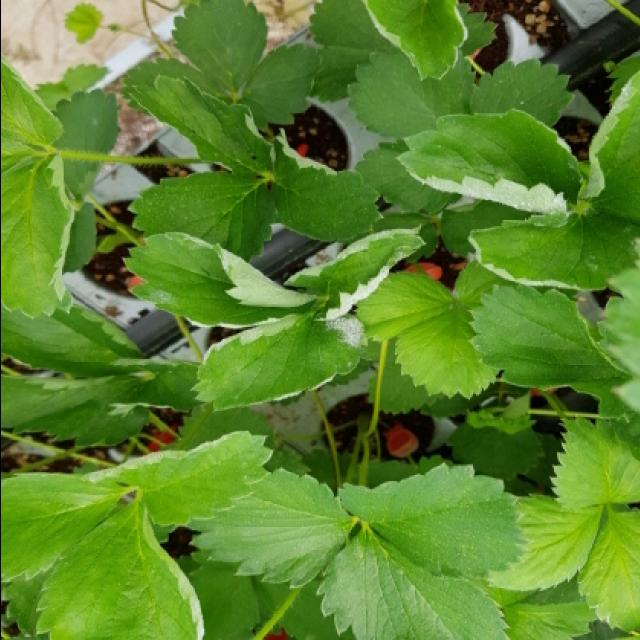Powdery Mildew Leaf: (34, 495, 205, 640), (394, 106, 586, 215), (72, 427, 276, 527), (121, 230, 320, 331), (189, 314, 369, 413), (466, 204, 640, 294), (279, 224, 427, 321), (582, 69, 640, 225), (359, 2, 467, 84)
